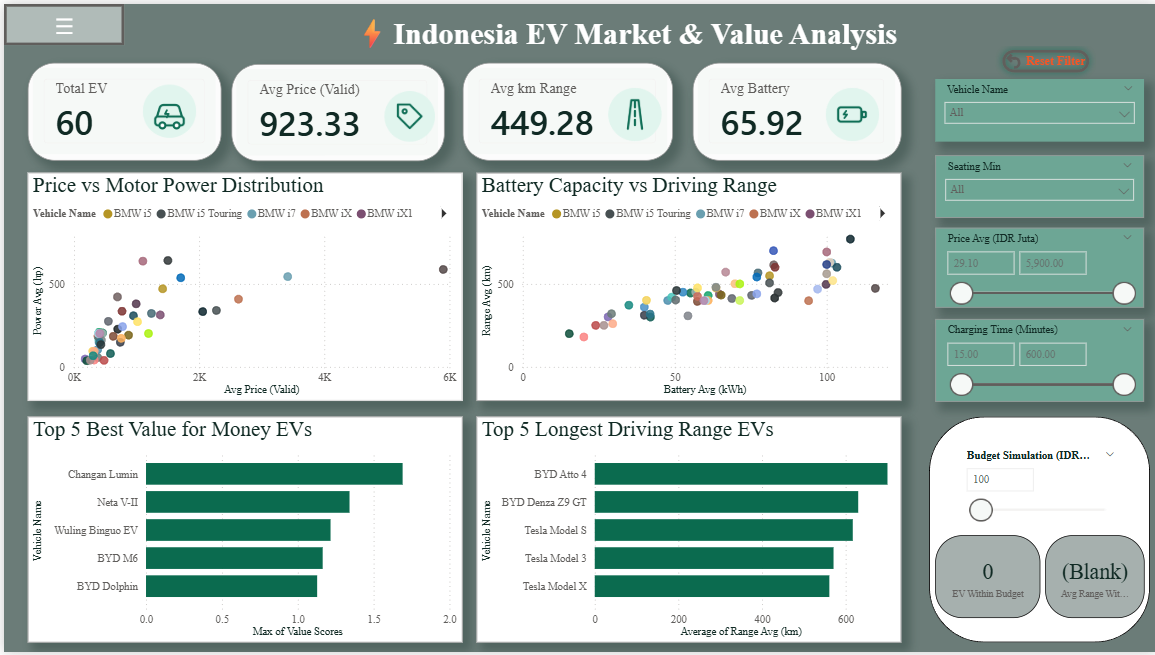

What the dashboard file says about the page in this screenshot:
{"tool":"powerbi","page":{"name":"Dashboard","canvas":[1280,720],"ordinal":0},"visuals":[{"type":"textbox","title":"⚡Indonesia EV Market & Value Analysis","box":[382.3,8.3,711.2,46.3],"z":0},{"type":"cardVisual","fields":{"Data":["EV_Data.Total EV"]},"box":[26.1,65.9,215.4,108.4],"z":1000},{"type":"cardVisual","fields":{"Data":["EV_Data.Avg Price (Valid)"]},"box":[253.3,66.7,236.7,108.3],"z":2000},{"type":"cardVisual","fields":{"Data":["EV_Data.Avg Battery"]},"box":[765.7,65.9,231.9,108.4],"z":3000},{"type":"cardVisual","fields":{"Data":["EV_Data.Avg Range"]},"box":[509.1,65.9,233.3,108.4],"z":4000},{"type":"scatterChart","title":"Price vs Motor Power Distribution","fields":{"Y":["EV_Data.Power Avg (hp)"],"Series":["EV_Data.Vehicle Name"],"X":["EV_Data.Avg Price (Valid)"]},"box":[26.1,188,483,253.9],"z":5000},{"type":"scatterChart","title":"Battery Capacity vs Driving Range","fields":{"X":["EV_Data.Battery Avg (kWh)"],"Y":["EV_Data.Range Avg (km)"],"Series":["EV_Data.Vehicle Name"]},"box":[525.6,188,472,253.9],"z":6000},{"type":"clusteredBarChart","title":"Top 5 Best Value for Money EVs","fields":{"Category":["EV_Data.Vehicle Name"],"Y":["Max(EV_Data.Value Scores)"]},"box":[26.1,458.3,483,251.1],"z":7000},{"type":"clusteredBarChart","title":"Top 5 Longest Driving Range EVs","fields":{"Category":["EV_Data.Vehicle Name"],"Y":["Avg(EV_Data.Range Avg (km))"]},"box":[525.6,458.3,472,251.1],"z":8000},{"type":"slicer","fields":{"Values":["EV_Data.Vehicle Name"]},"box":[1034.7,83.7,231.9,70],"z":9000},{"type":"slicer","fields":{"Values":["EV_Data.Seating Min"]},"box":[1034.7,167.4,231.9,70],"z":10000},{"type":"slicer","fields":{"Values":["EV_Data.Price Avg (IDR Juta)"]},"box":[1034.7,248.4,231.9,89.2],"z":11000},{"type":"slicer","fields":{"Values":["EV_Data.Charging Time (Minutes)"]},"box":[1034.7,349.9,231.9,91.9],"z":12000},{"type":"actionButton","box":[1101.3,42.6,112.3,40.9],"z":13000},{"type":"shape","box":[1027.8,458.3,245.6,251.1],"z":14000},{"type":"slicer","fields":{"Values":["Budget Simulation (IDR Juta).Budget Simulation (IDR Juta)"]},"box":[1056.6,489.9,189.4,86.4],"z":15000},{"type":"card","fields":{"Values":["EV_Data.EV Within Budget"]},"box":[1034.7,590.1,116.6,91.9],"z":16000},{"type":"card","fields":{"Values":["EV_Data.Avg Range Within Budget"]},"box":[1156.7,590,110,92.2],"z":17000},{"type":"image","box":[113.9,87.8,140,63.1],"z":18000},{"type":"image","box":[421.2,43.8,60,160],"z":19000},{"type":"image","box":[669.6,79.6,63.1,87.8],"z":20000},{"type":"image","box":[911.2,79.6,63.1,87.8],"z":21000},{"type":"actionButton","title":"Menu Button","box":[0,0,133.6,45.9],"z":23000}]}

Visuals, with their boxes in screenshot pixels (x1, y1, x2, y2), scaled from the page's 1280x720 canvas onto the 1155x655 screenshot:
"⚡Indonesia EV Market & Value Analysis" textbox: rect(345, 8, 987, 50)
cardVisual - EV_Data.Total EV: rect(24, 60, 218, 159)
cardVisual - EV_Data.Avg Price (Valid): rect(229, 61, 442, 159)
cardVisual - EV_Data.Avg Battery: rect(691, 60, 900, 159)
cardVisual - EV_Data.Avg Range: rect(459, 60, 670, 159)
"Price vs Motor Power Distribution" scatterChart: rect(24, 171, 459, 402)
"Battery Capacity vs Driving Range" scatterChart: rect(474, 171, 900, 402)
"Top 5 Best Value for Money EVs" clusteredBarChart: rect(24, 417, 459, 645)
"Top 5 Longest Driving Range EVs" clusteredBarChart: rect(474, 417, 900, 645)
slicer - EV_Data.Vehicle Name: rect(934, 76, 1143, 140)
slicer - EV_Data.Seating Min: rect(934, 152, 1143, 216)
slicer - EV_Data.Price Avg (IDR Juta): rect(934, 226, 1143, 307)
slicer - EV_Data.Charging Time (Minutes): rect(934, 318, 1143, 402)
actionButton: rect(994, 39, 1095, 76)
shape: rect(927, 417, 1149, 645)
slicer - Budget Simulation (IDR Juta).Budget Simulation (IDR Juta): rect(953, 446, 1124, 524)
card - EV_Data.EV Within Budget: rect(934, 537, 1039, 620)
card - EV_Data.Avg Range Within Budget: rect(1044, 537, 1143, 621)
image: rect(103, 80, 229, 137)
image: rect(380, 40, 434, 185)
image: rect(604, 72, 661, 152)
image: rect(822, 72, 879, 152)
"Menu Button" actionButton: rect(0, 0, 121, 42)
